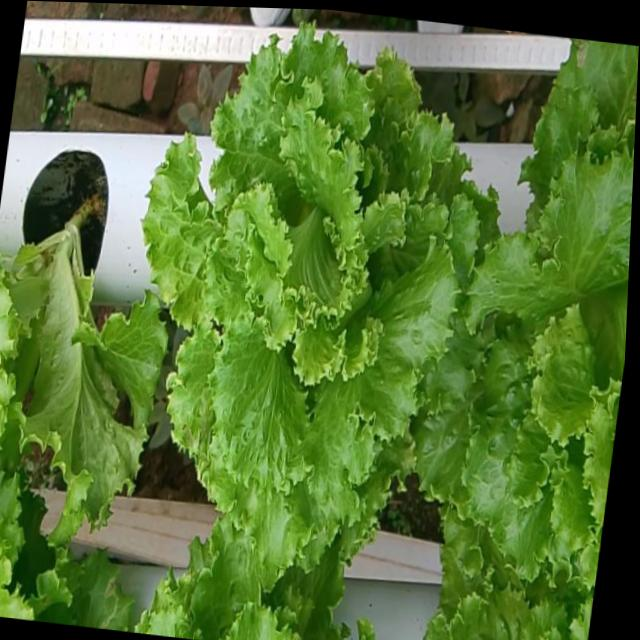Mature: (137, 26, 476, 569), (412, 140, 634, 576)
